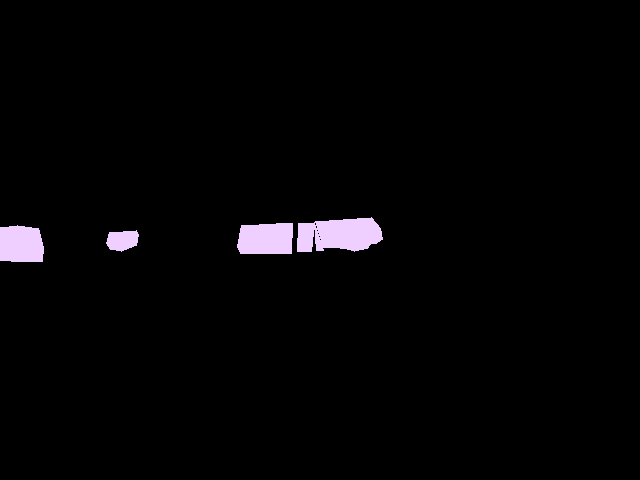Train: (237, 222, 324, 253), (315, 217, 382, 252), (0, 225, 43, 261), (106, 230, 138, 251)
